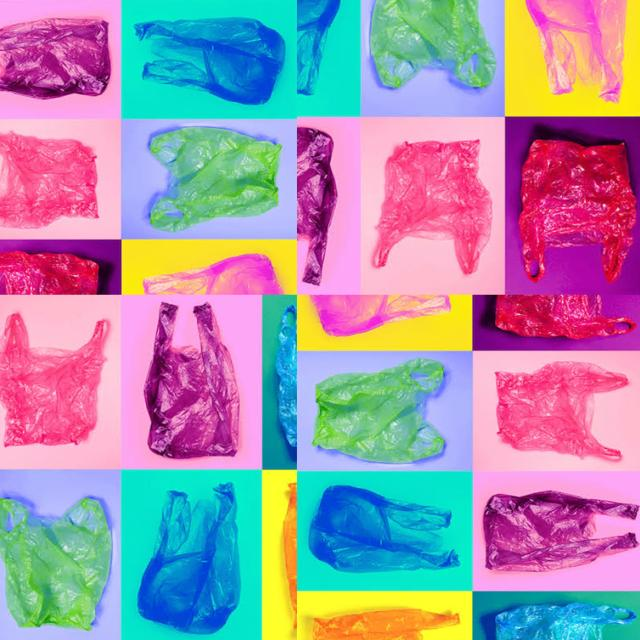plastik: (519, 140, 636, 282), (372, 140, 492, 276), (138, 483, 241, 634), (0, 498, 112, 631), (145, 303, 239, 459), (0, 314, 109, 446), (312, 359, 444, 464), (150, 128, 282, 232), (309, 485, 459, 573), (496, 363, 628, 462), (135, 18, 283, 105), (484, 491, 639, 572), (370, 0, 496, 89), (525, 0, 628, 103), (0, 133, 98, 229), (0, 19, 110, 100), (297, 127, 337, 285), (496, 295, 636, 340), (311, 295, 451, 336), (143, 254, 283, 295), (495, 603, 636, 640), (313, 609, 460, 640), (0, 251, 99, 295), (297, 0, 341, 96)
